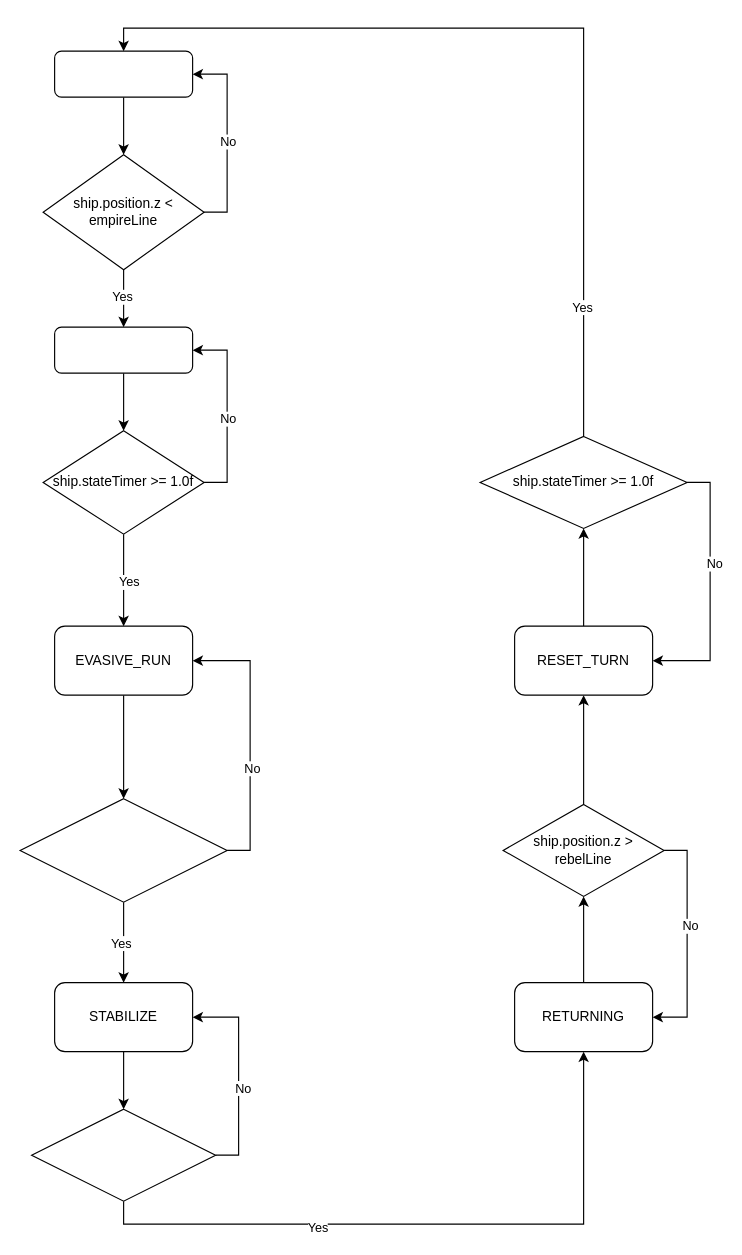
The diagram is 742 pixels wide and 1255 high, and some of its shapes have lost their labels. Each missing label, with the centre of its shape:
"APPROACHING" goes at (123,73).
"EVASIVE_TURN" goes at (123,349).
"ship.stateTimer >= 1.5f" goes at (123,1154).
"ship.stateTimer >= 2.0f" goes at (123,850).
